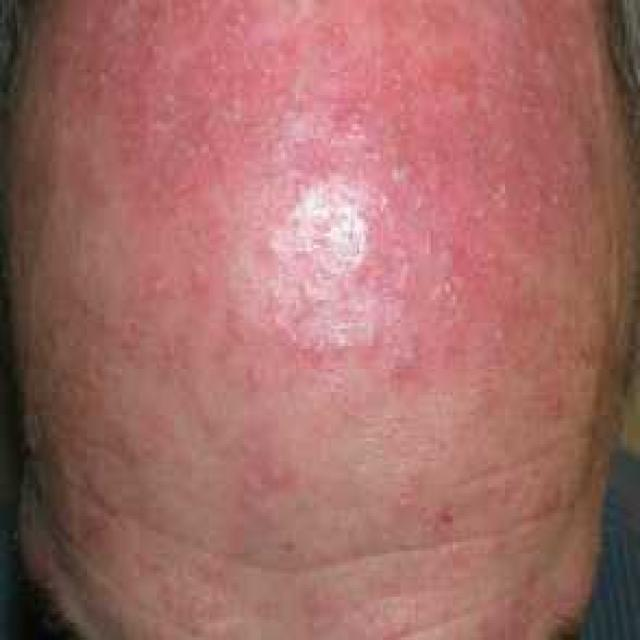Rosacea: (75, 0, 599, 404)
